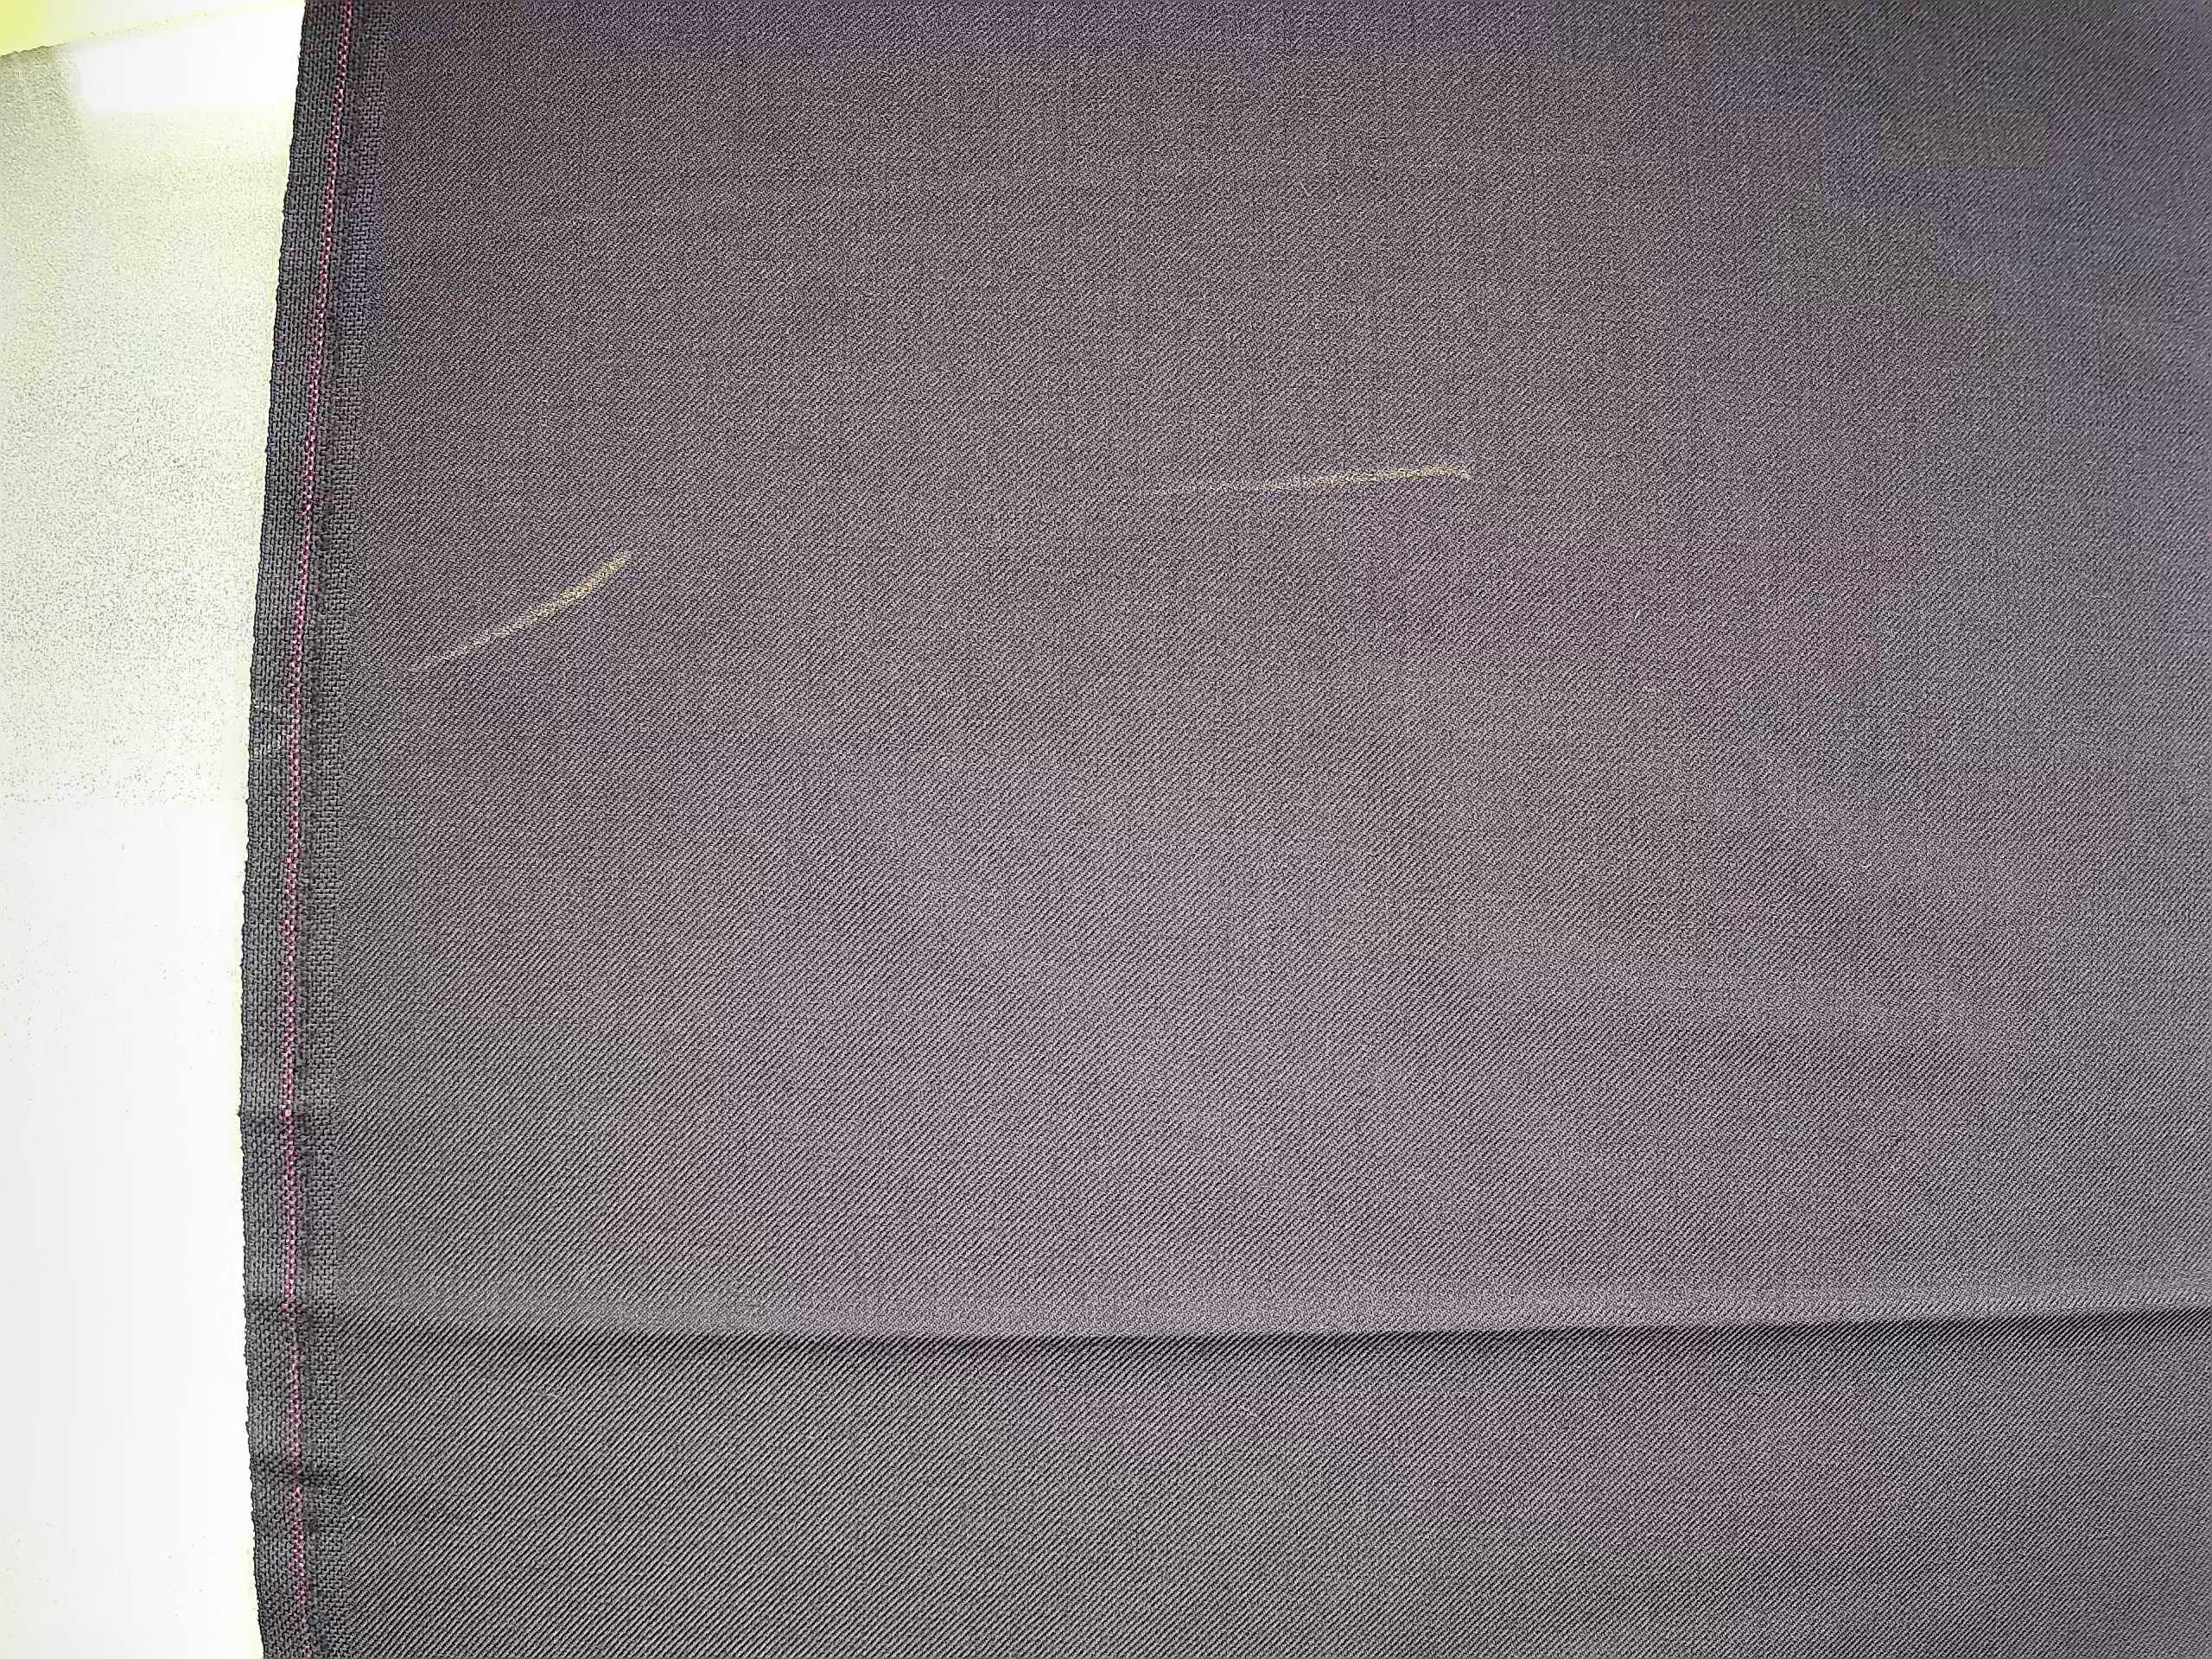stains: (547, 491, 1777, 959), (1796, 118, 2030, 351)
